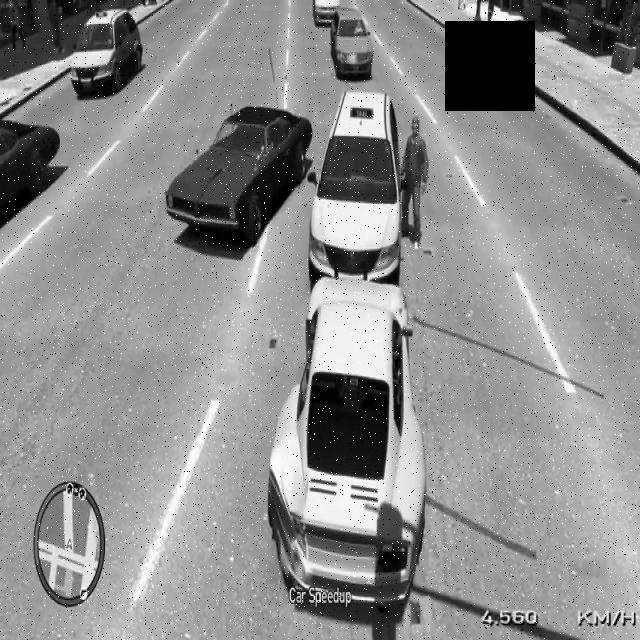moderate: (264, 60, 430, 616)
